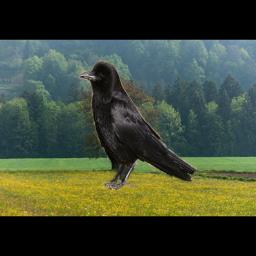Crow: (78, 60, 197, 190)
